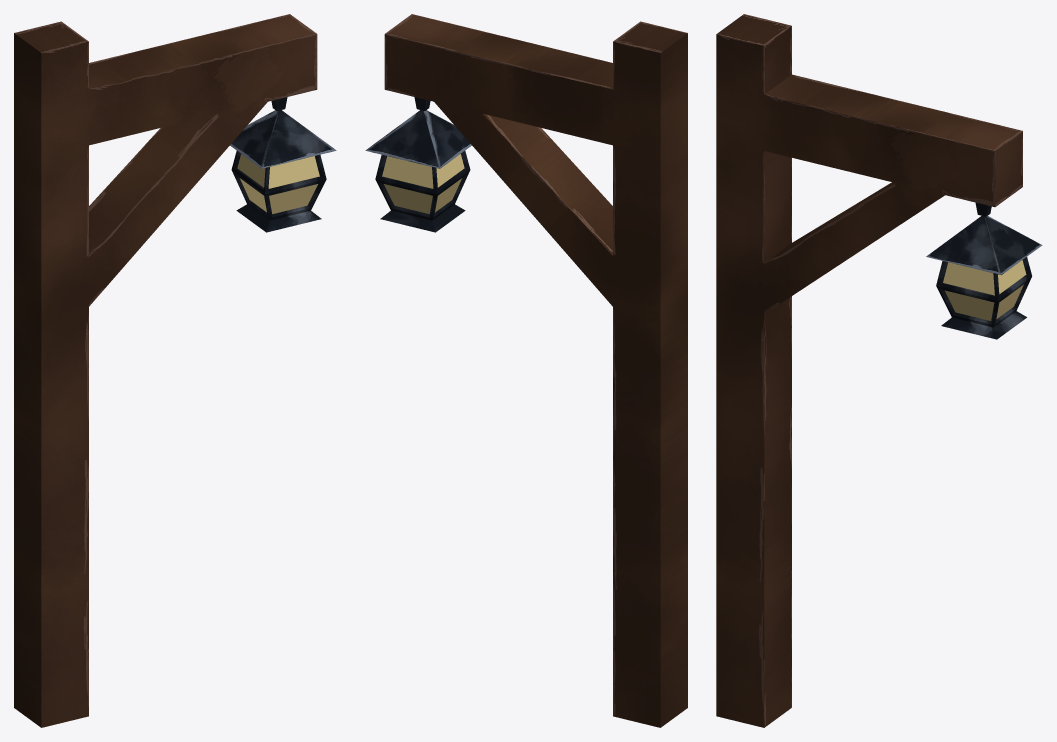
File: LAMP_LP_TEXTURE.fbx
The picture shows the model from 3 angles, left to right: view 1: azimuth 30°, elevation 25°; view 2: azimuth 150°, elevation 25°; view 3: azimuth 330°, elevation 25°; orthographic projection.
Visible parts, largest first — view 1: LAMP_LP; view 2: LAMP_LP; view 3: LAMP_LP.
Boxes of the visible parts, x1,y1,x2,y2 form: LAMP_LP: [14, 14, 336, 727]; LAMP_LP: [365, 14, 687, 727]; LAMP_LP: [716, 14, 1042, 727].
Size of the model in its own units: 240 by 536 by 58.56.
2 materials, 1 textured.
